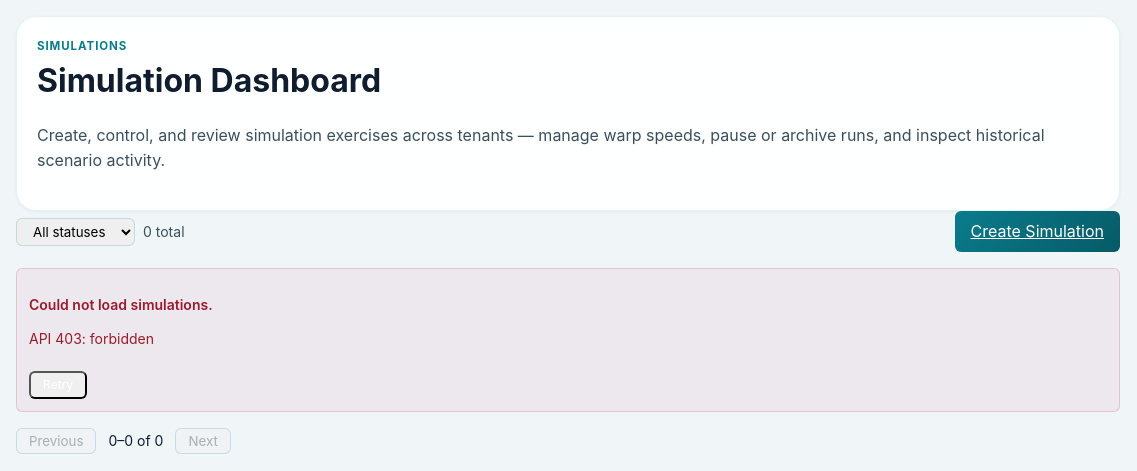
Test: SimulationListPage › renders a retryable error instead of an empty list when loading fails
This screenshot has width=1137, height=471.
Expected: the message with test id "sim-list-error" shows "API 403: forbidden", top-left (29, 330), bottom-right (154, 347)
What coordinates should you click on to do the following:
click the button "Retry"
I would click on:
 (58, 385)
Its box is top-left (29, 371), bottom-right (87, 399).
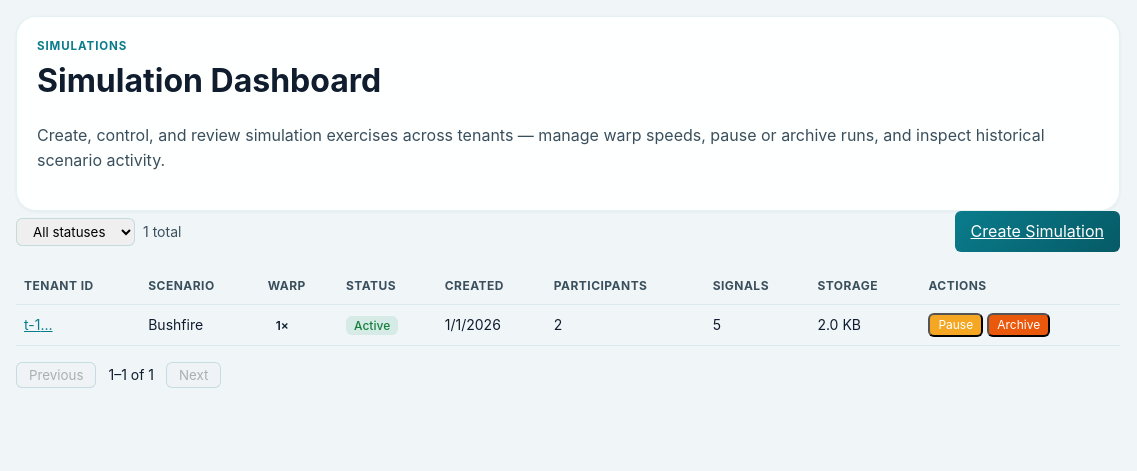
Now the message with test id "sim-list-error" is gone
